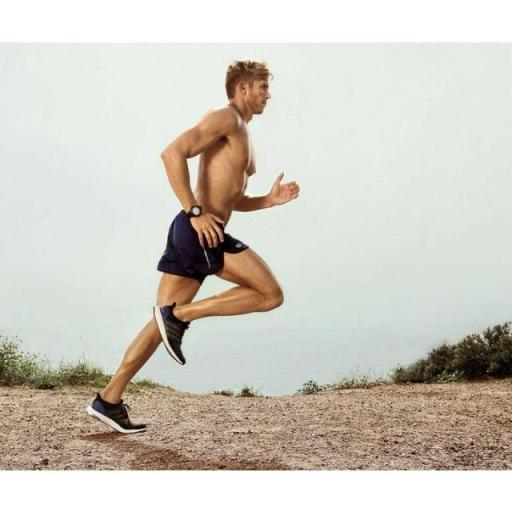Running: (70, 48, 310, 442)
